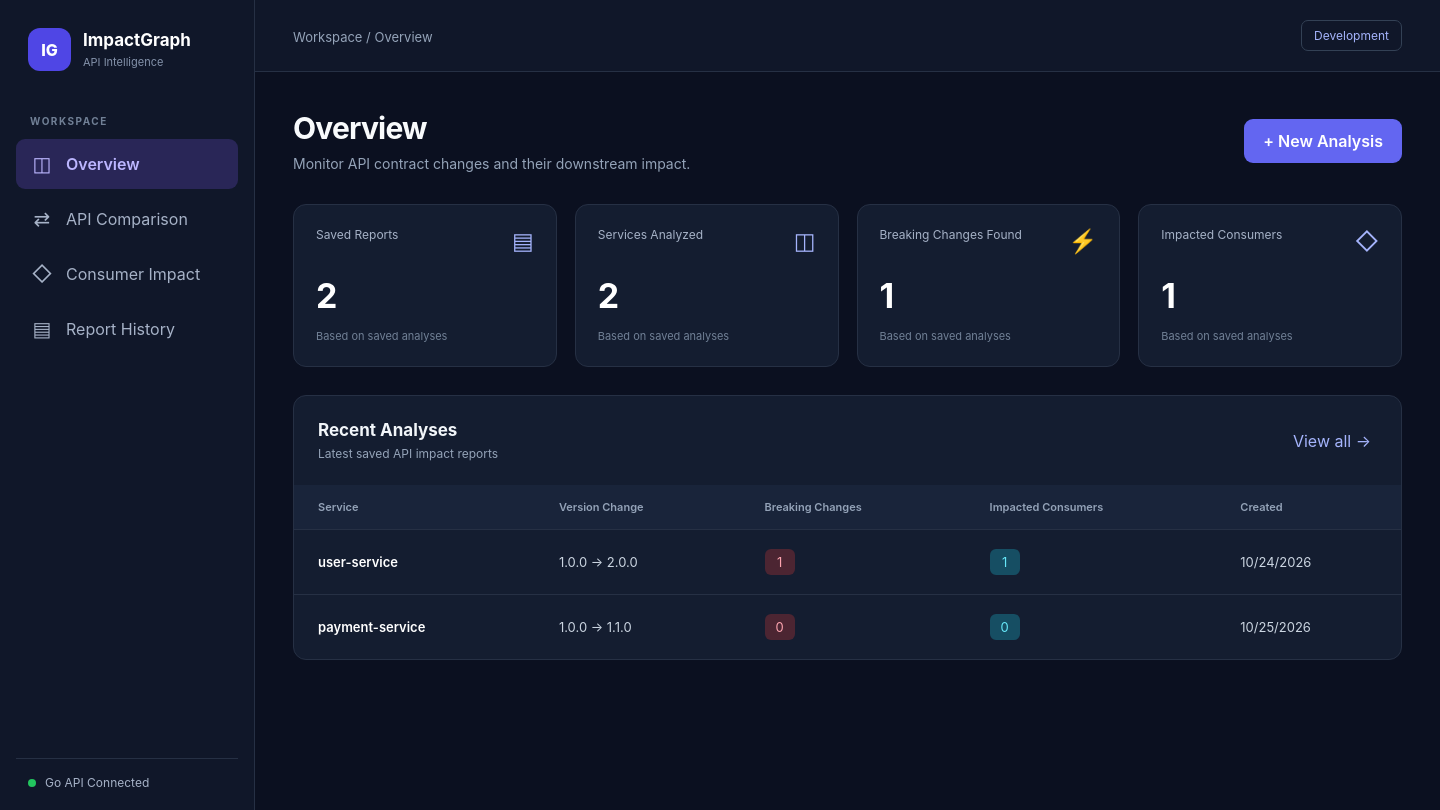
Test: ImpactGraph App › opens API Comparison from the sidebar
Step 1. Click the button "⇄ API Comparison" → (127, 219), box [16,194,238,244]
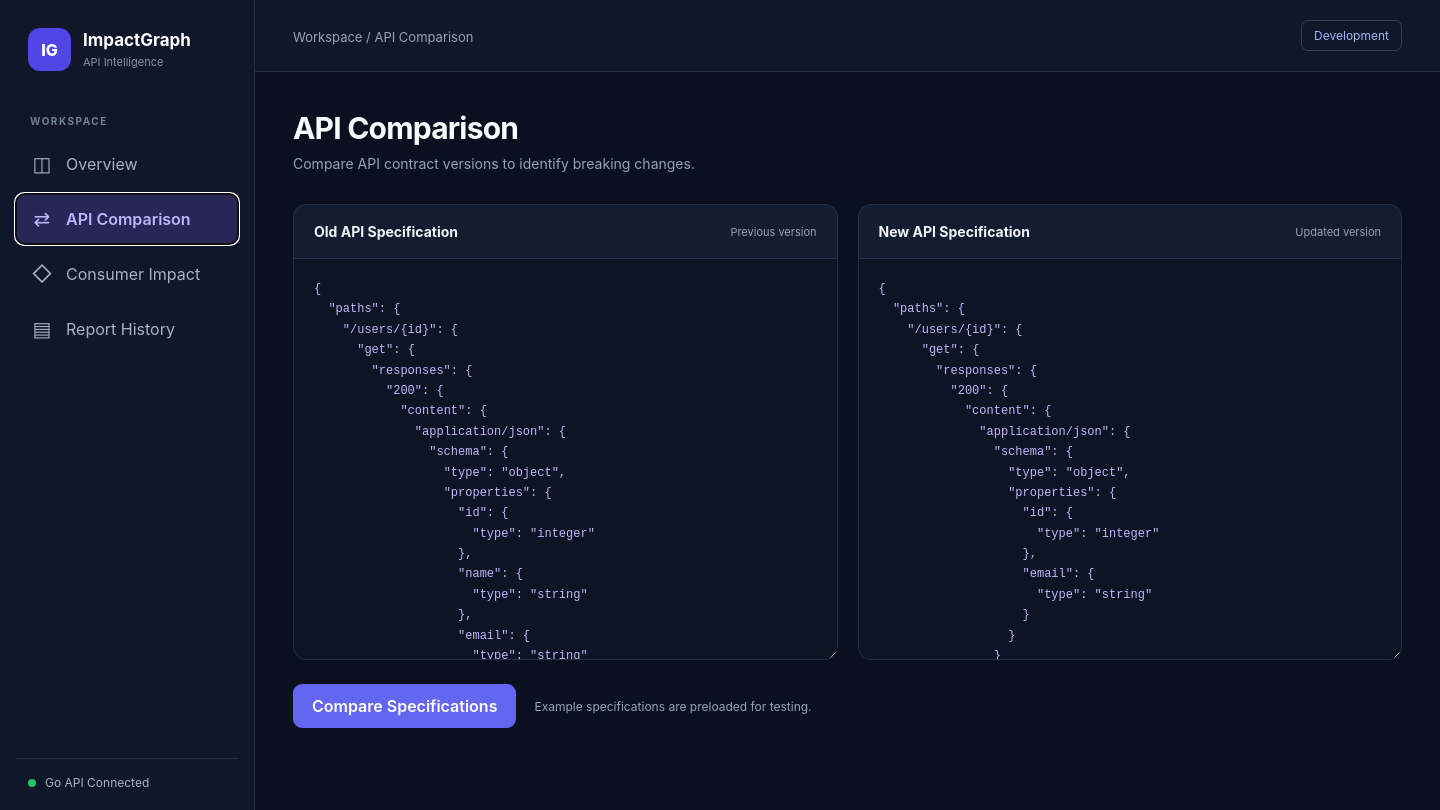
Expected: the heading "API Comparison" is shown, [293,110,518,146]
Expected: the button "Compare Specifications" is shown, [293,684,516,728]
